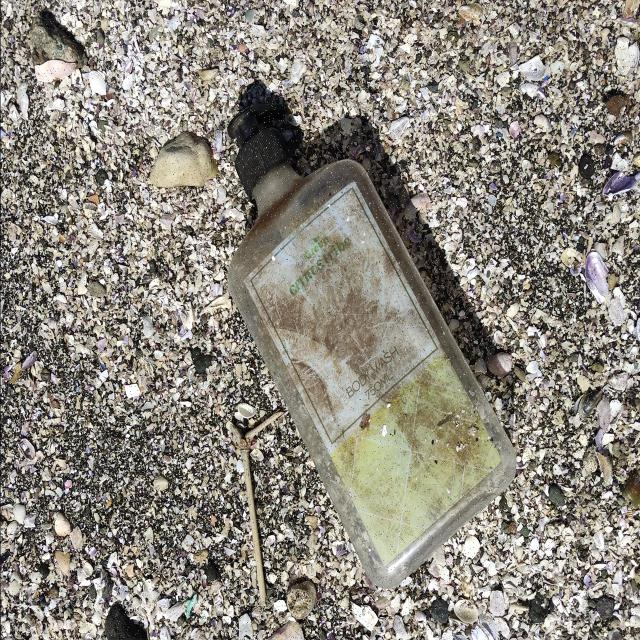plastic_waste: (229, 103, 518, 594)
